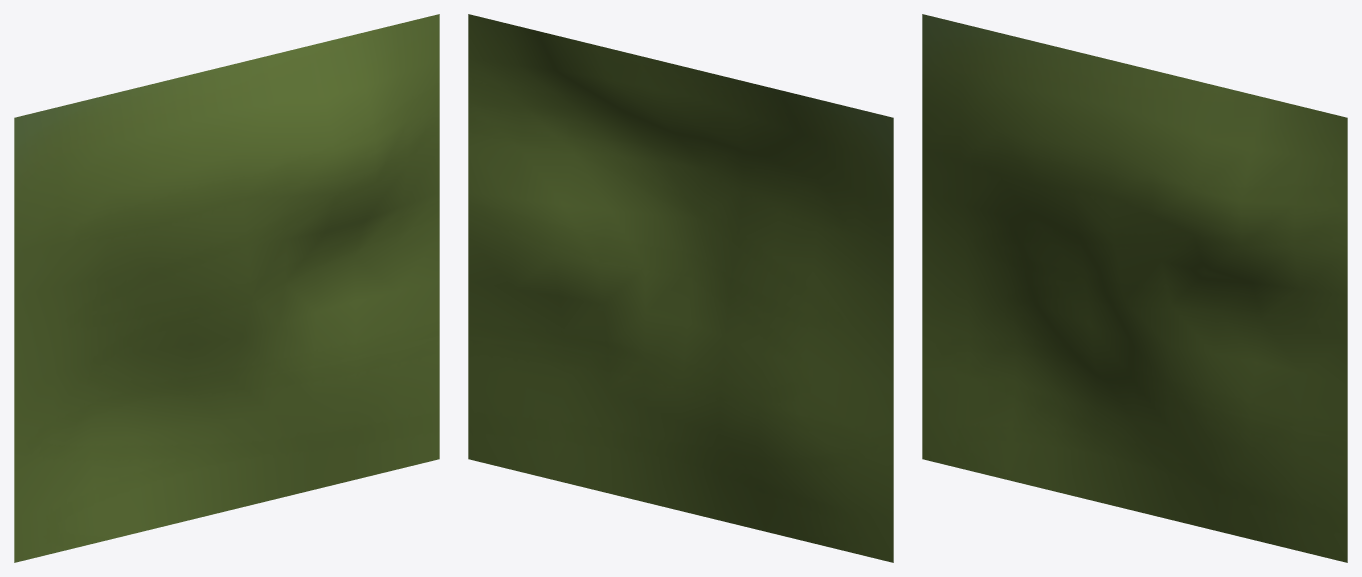
File: grassyHills.dae
3 renders of one model, left to right at view 1: azimuth 30°, elevation 25°; view 2: azimuth 150°, elevation 25°; view 3: azimuth 330°, elevation 25°, orthographic.
Parts seen in each view (by area): view 1: plains; view 2: plains; view 3: plains.
Part boxes in pixels (x1,y1,x2,y2): plains: [14, 14, 439, 562]; plains: [468, 14, 893, 562]; plains: [922, 14, 1347, 562].
Bounding box in the file's own units: 1 × 0.1357 × 1.
Materials: 1 (1 with a texture image).
